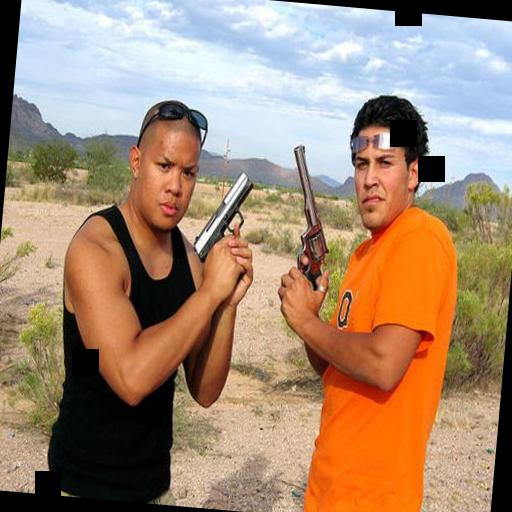Handgun: (280, 142, 339, 294), (190, 166, 256, 266)
